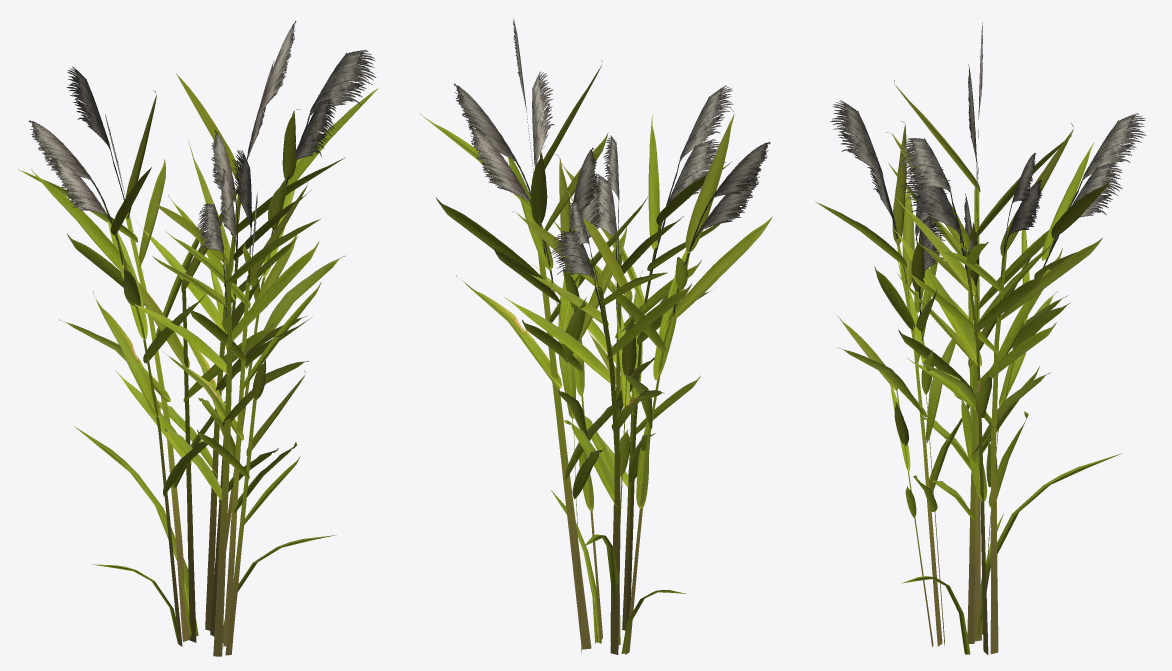
Rendered from reed_01.fbx.
3 renders of one model, left to right at view 1: azimuth 30°, elevation 25°; view 2: azimuth 150°, elevation 25°; view 3: azimuth 270°, elevation 25°, orthographic. The views are drawn at different scales.
Visible parts, largest first — view 1: reed_01; view 2: reed_01; view 3: reed_01.
Part boxes in pixels (x1,y1,x2,y2): reed_01: (18,21,378,656); reed_01: (420,19,772,654); reed_01: (815,22,1146,654).
Size of the model in its own units: 5 by 7.91 by 4.21.
Materials: 1 (1 with a texture image).
